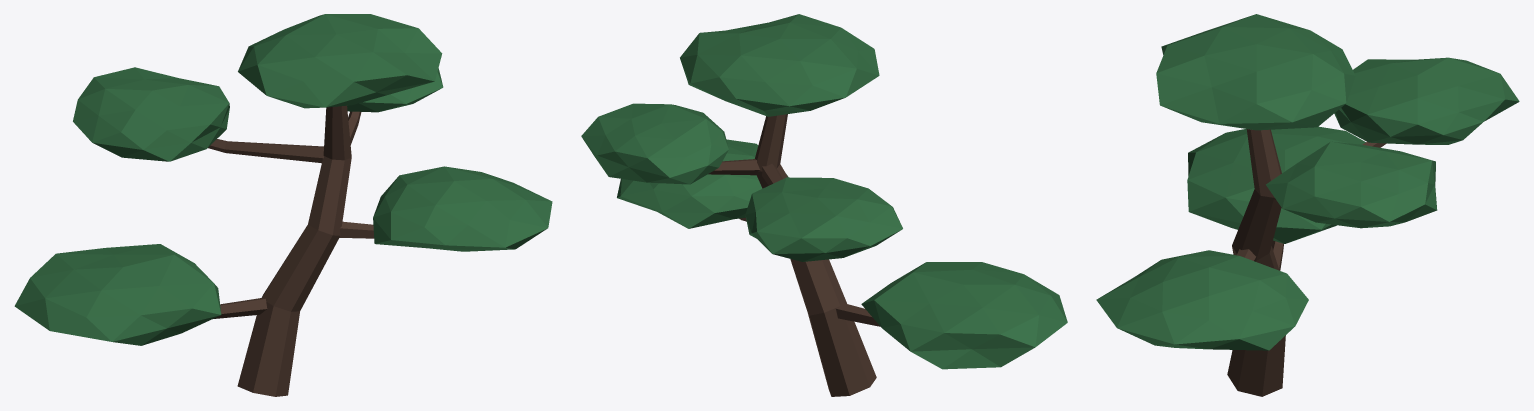
The model's file is pine.fbx.
3 renders of one model, left to right at view 1: azimuth 30°, elevation 25°; view 2: azimuth 150°, elevation 25°; view 3: azimuth 270°, elevation 25°, orthographic. The views are drawn at different scales.
Parts seen in each view (by area): view 1: Pine_Needles, Pine_Bark; view 2: Pine_Needles, Pine_Bark; view 3: Pine_Needles, Pine_Bark.
Part boxes in pixels (<box>): Pine_Needles: <box>14,14,552,345</box>; Pine_Bark: <box>208,105,374,396</box>; Pine_Needles: <box>581,14,1067,369</box>; Pine_Bark: <box>708,114,880,396</box>; Pine_Needles: <box>1096,14,1519,350</box>; Pine_Bark: <box>1227,129,1386,396</box>.
Bounding box in the file's own units: 12.7 × 8.87 × 8.93.
